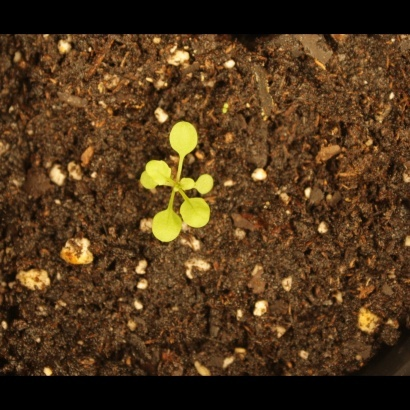leaf: (169, 116, 201, 163), (177, 197, 218, 233), (151, 205, 183, 248), (141, 156, 176, 187), (191, 173, 220, 196), (138, 171, 161, 194), (176, 172, 199, 195)
